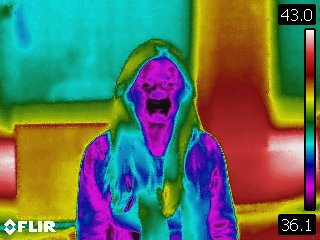human: (77, 39, 240, 240)
